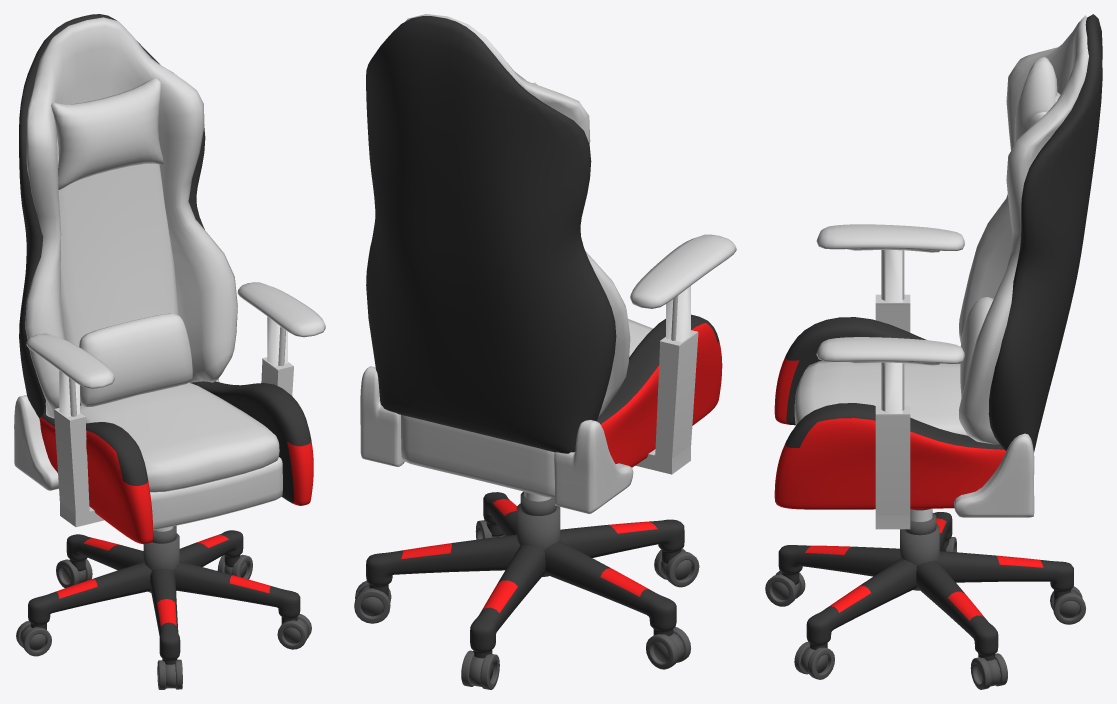
Rendered from GamingChair6.glb.
The picture shows the model from 3 angles, left to right: view 1: azimuth 30°, elevation 25°; view 2: azimuth 150°, elevation 25°; view 3: azimuth 270°, elevation 25°; orthographic projection. The views are drawn at different scales.
Visible parts, largest first — view 1: Body, Back, Pillows, SeatCushion, SideCushion, Legs, Arm, Shell, ArmPads, Wheels, Corner, Pole; view 2: Shell, Legs, Body, SideCushion, Corner, Arm, Wheels, Pole, ArmPads; view 3: Shell, SideCushion, Body, Legs, SeatCushion, Arm, ArmPads, Wheels, Corner, Pillows, Pole.
Boxes of the visible parts, left/top/right/bottom form: Body: left=25, top=17, right=285, bottom=530; Back: left=57, top=137, right=178, bottom=405; Pillows: left=51, top=77, right=192, bottom=406; SeatCushion: left=80, top=382, right=279, bottom=492; SideCushion: left=39, top=381, right=313, bottom=544; Legs: left=28, top=530, right=300, bottom=664; Arm: left=54, top=316, right=293, bottom=527; Shell: left=19, top=14, right=205, bottom=417; ArmPads: left=29, top=282, right=325, bottom=388; Wheels: left=16, top=554, right=311, bottom=689; Corner: left=14, top=379, right=219, bottom=490; Pole: left=143, top=526, right=179, bottom=592; Shell: left=366, top=16, right=616, bottom=453; Legs: left=366, top=492, right=684, bottom=658; Body: left=401, top=14, right=736, bottom=497; SideCushion: left=596, top=314, right=722, bottom=467; Corner: left=360, top=366, right=633, bottom=513; Arm: left=635, top=286, right=698, bottom=474; Wheels: left=354, top=520, right=699, bottom=689; Pole: left=516, top=491, right=560, bottom=576; ArmPads: left=630, top=235, right=736, bottom=301; Shell: left=988, top=14, right=1102, bottom=451; SideCushion: left=774, top=317, right=1005, bottom=509; Body: left=819, top=15, right=1088, bottom=444; Legs: left=778, top=512, right=1073, bottom=660; SeatCushion: left=794, top=361, right=967, bottom=435; Arm: left=875, top=250, right=910, bottom=529; ArmPads: left=816, top=224, right=964, bottom=365; Wheels: left=765, top=537, right=1085, bottom=689; Corner: left=954, top=433, right=1034, bottom=517; Pillows: left=960, top=57, right=1057, bottom=397; Pole: left=900, top=508, right=939, bottom=590.
Bounding box in the file's own units: 2.38 × 4.93 × 2.48.
